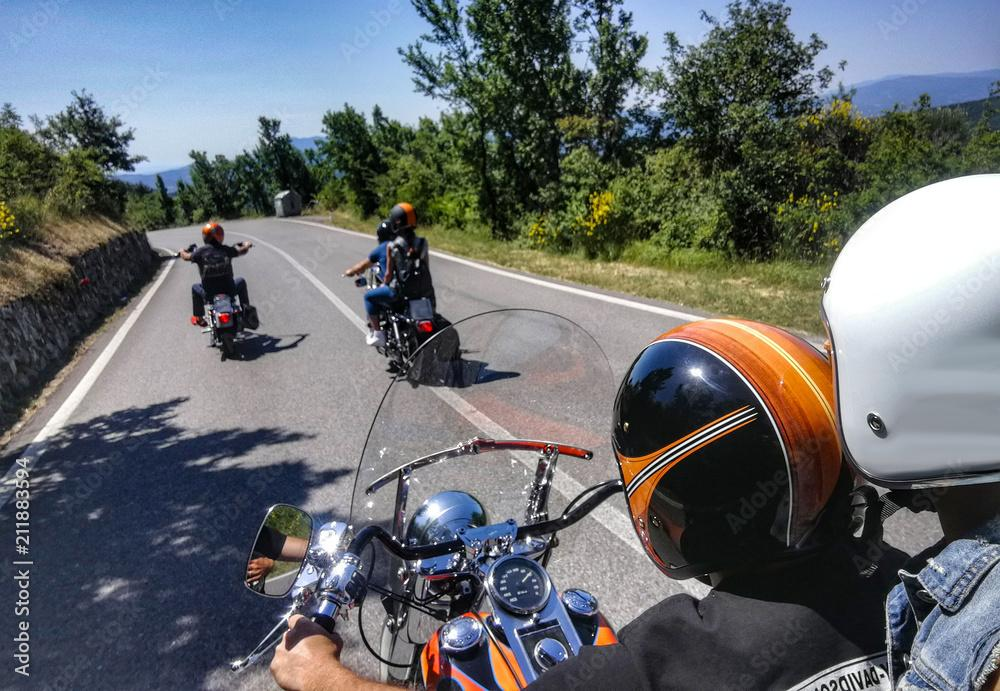helmet: (609, 314, 874, 584), (817, 170, 1000, 491), (388, 201, 418, 234), (202, 221, 225, 248)
